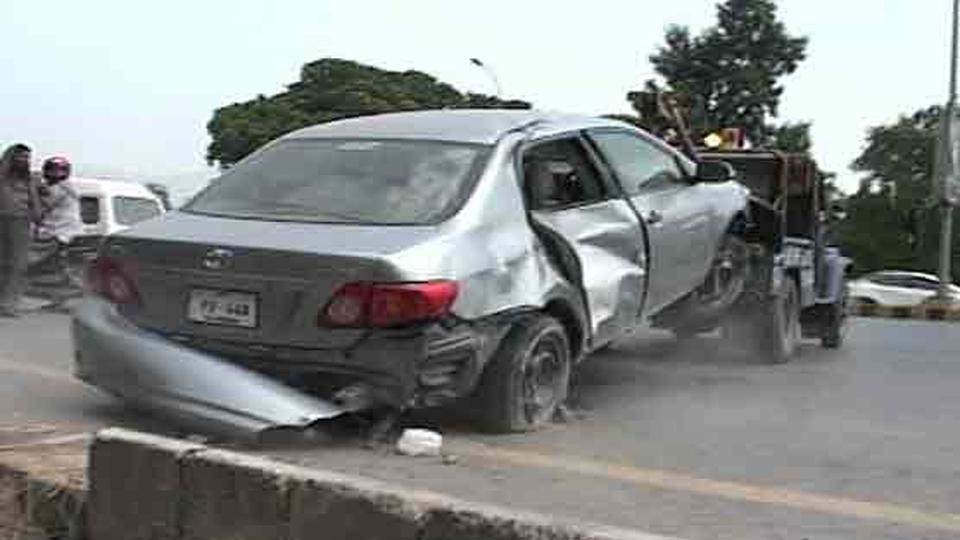NumberPlate: (186, 280, 265, 327)
